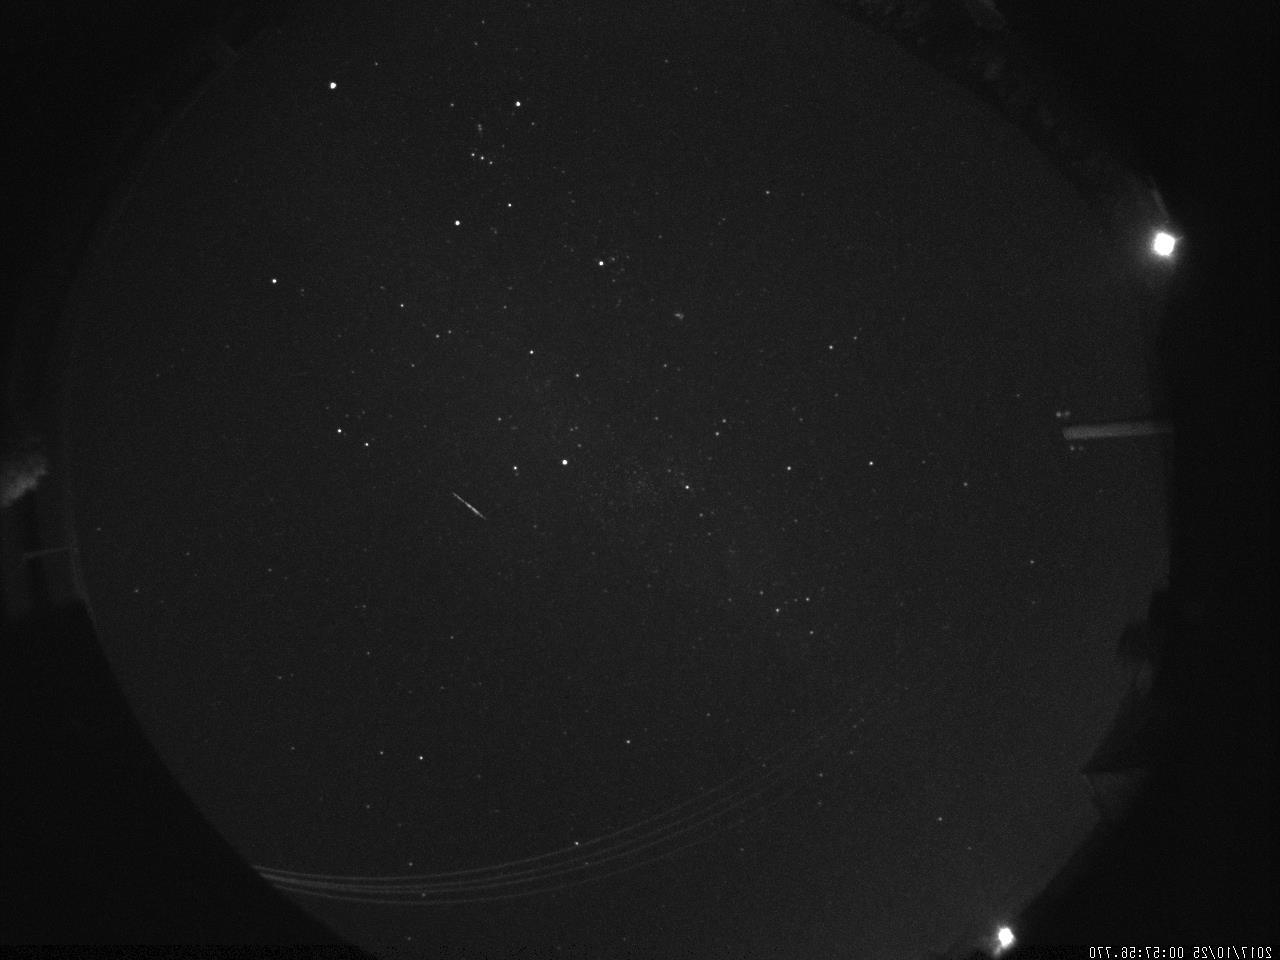meteor: (451, 491, 489, 521)
